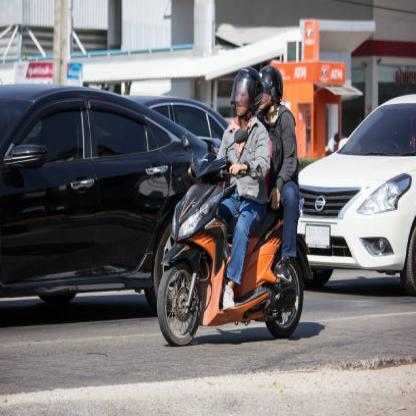Motorcycle: (151, 148, 309, 346)
